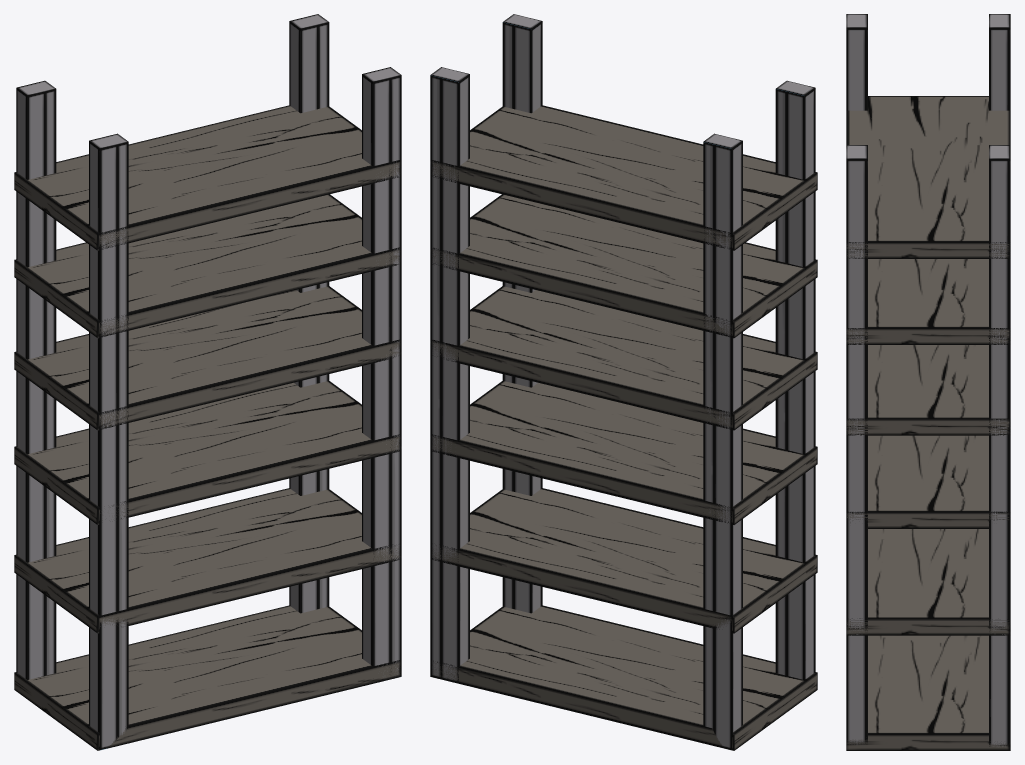
Rendered from L_kast.fbx.
The picture shows the model from 3 angles, left to right: view 1: azimuth 30°, elevation 25°; view 2: azimuth 150°, elevation 25°; view 3: azimuth 270°, elevation 25°; orthographic projection.
Parts seen in each view (by area): view 1: L_kast; view 2: L_kast; view 3: L_kast.
Boxes of the visible parts, x1,y1,x2,y2 form: L_kast: (14, 14, 401, 750); L_kast: (430, 14, 817, 750); L_kast: (846, 14, 1010, 750).
Bounding box in the file's own units: 107 × 203 × 50.99.
Materials: 1 (1 with a texture image).
